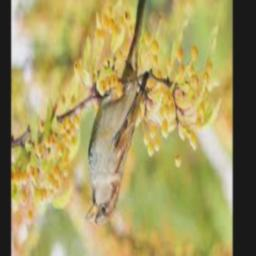Sparrow: (86, 0, 149, 227)
